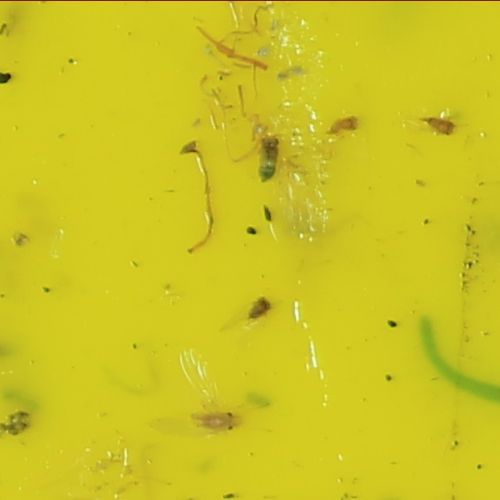Glycaspis: (253, 130, 281, 181), (193, 409, 245, 432)
psylla: (422, 111, 457, 137)
